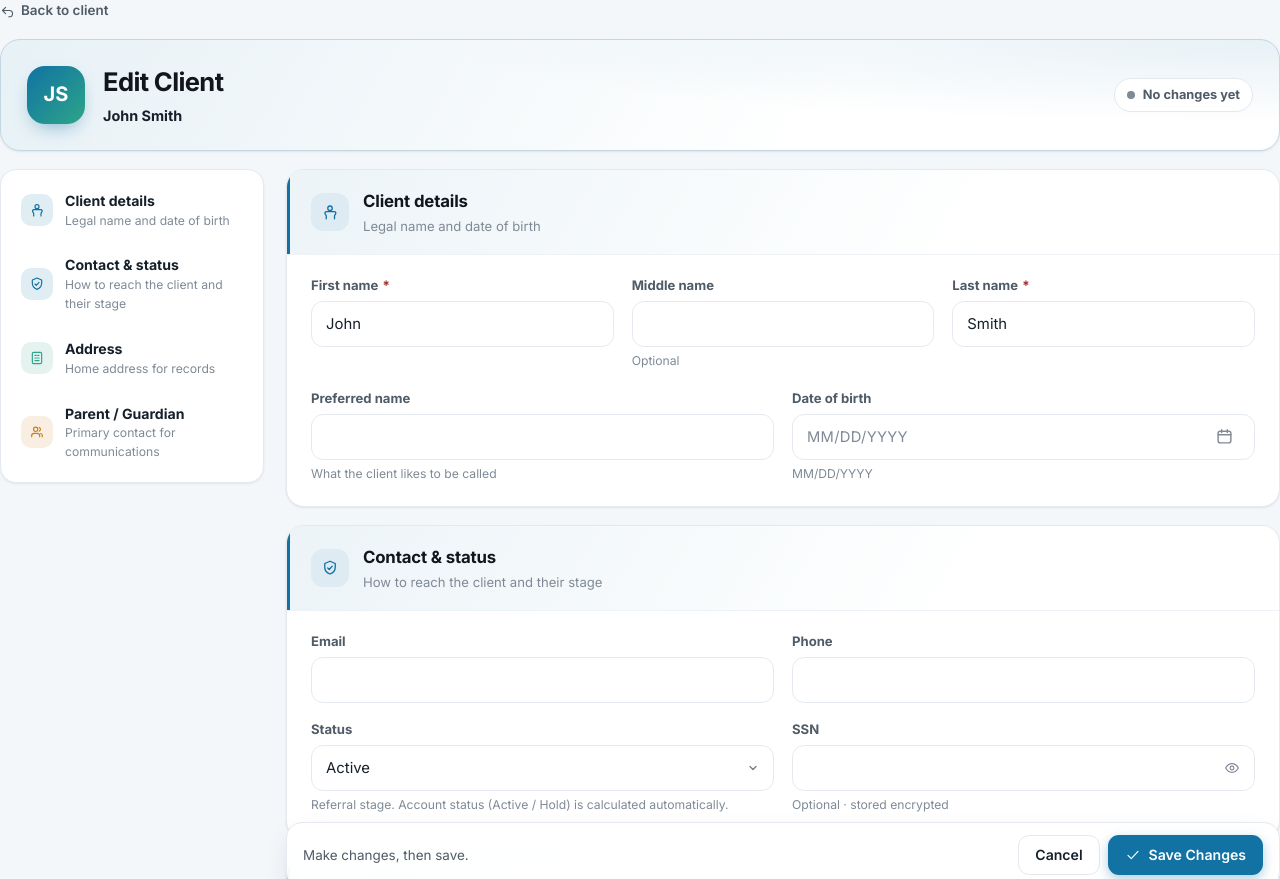
Edit Client form — Module 2 › shows a friendly activation message for CLIENT_ACTIVATION_REQUIRES_PARENT (edit)
Select "Active" in the dropdown at (542, 768), box [311, 745, 774, 791]
(page scrolled)
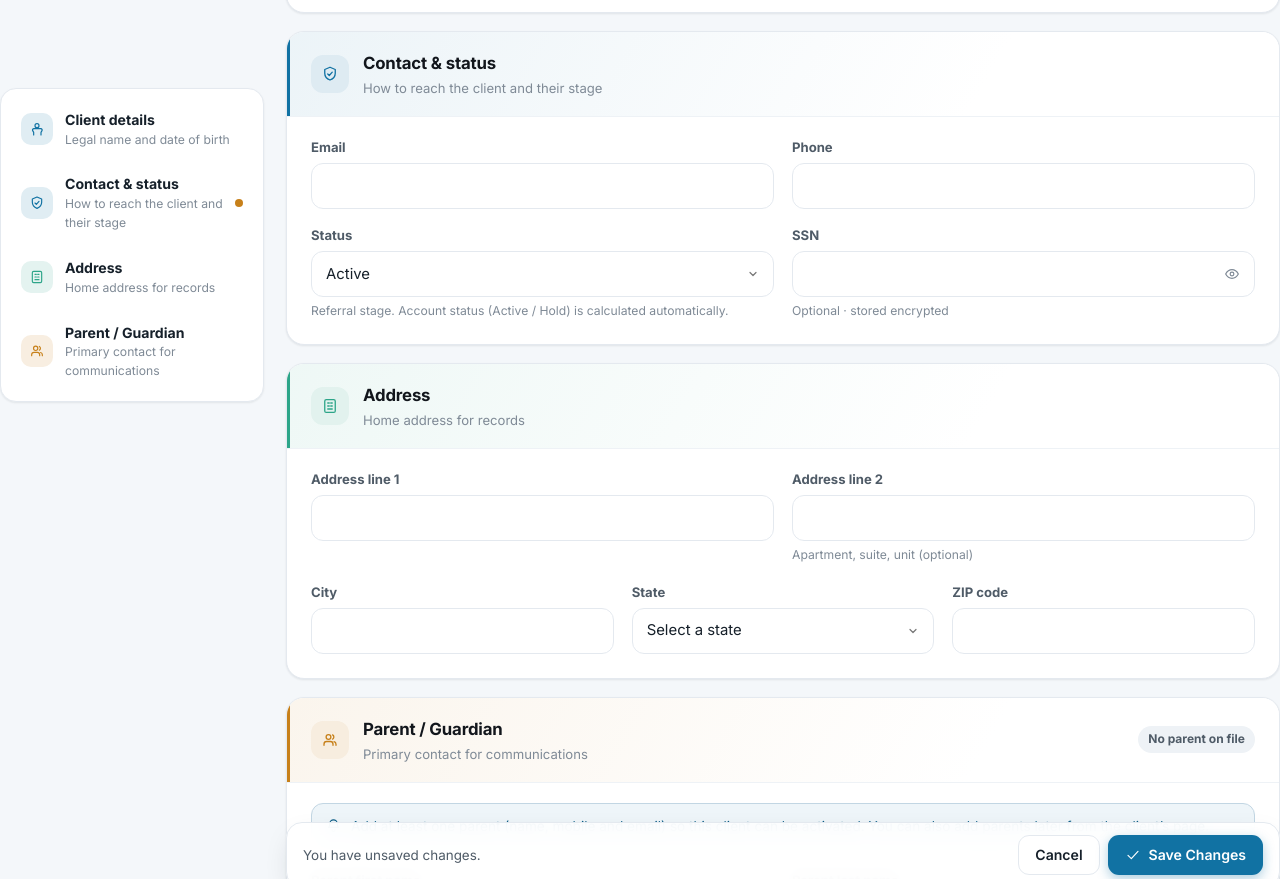
Submit the form
(page scrolled)
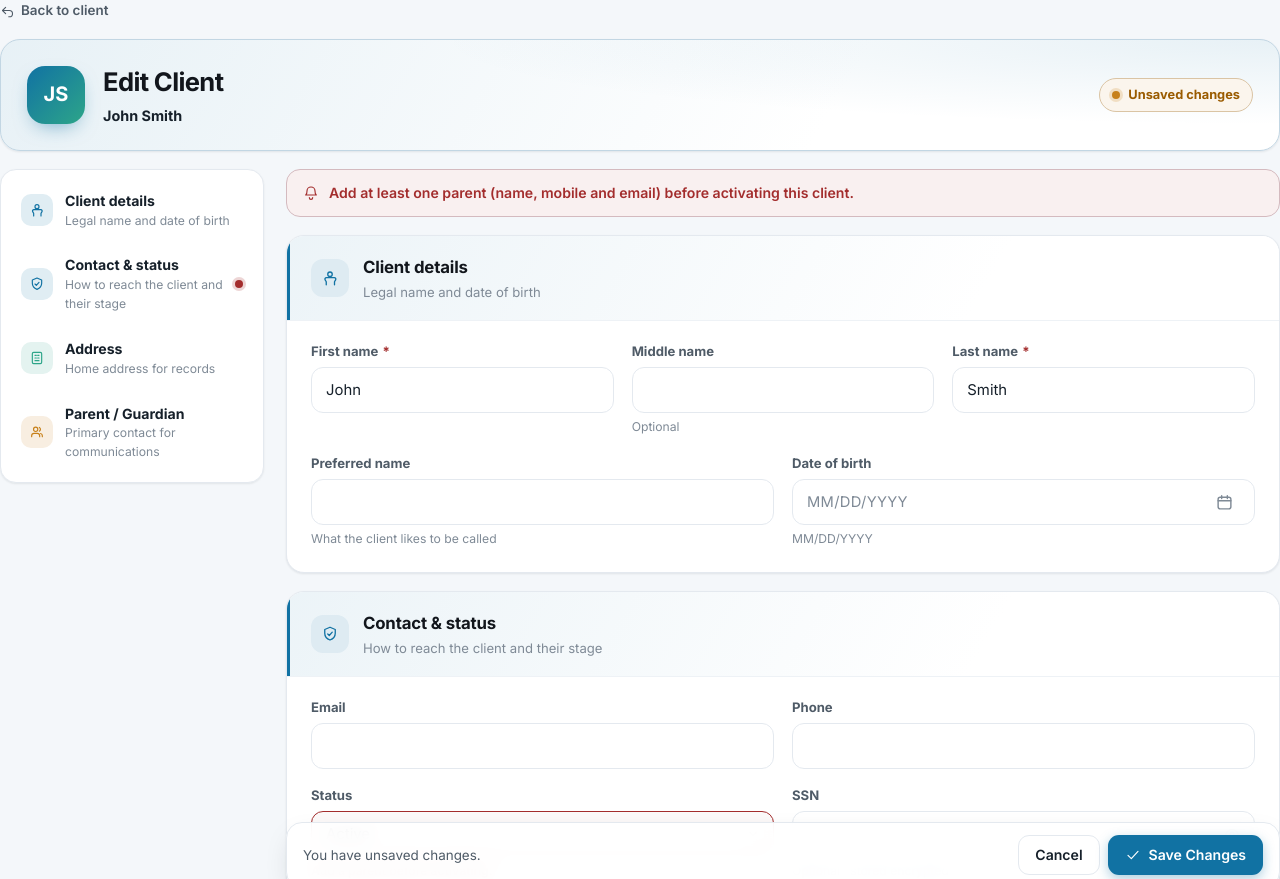
expect the text with class "form-error" shows "Add at least one parent": met, box [329, 184, 854, 201]
